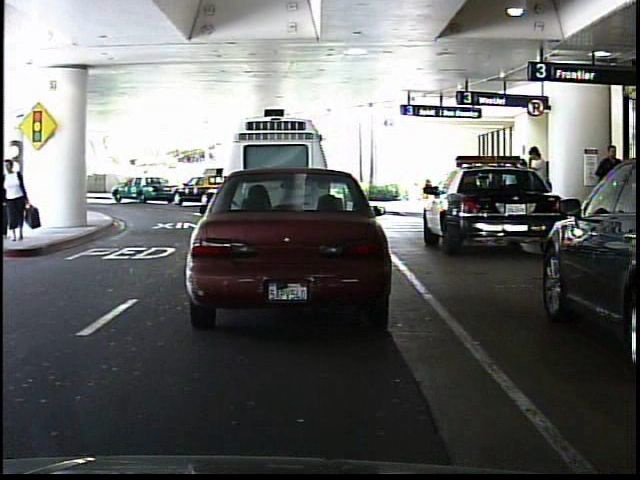person: (590, 138, 626, 234), (521, 141, 556, 236), (4, 154, 32, 243), (138, 164, 156, 198)
